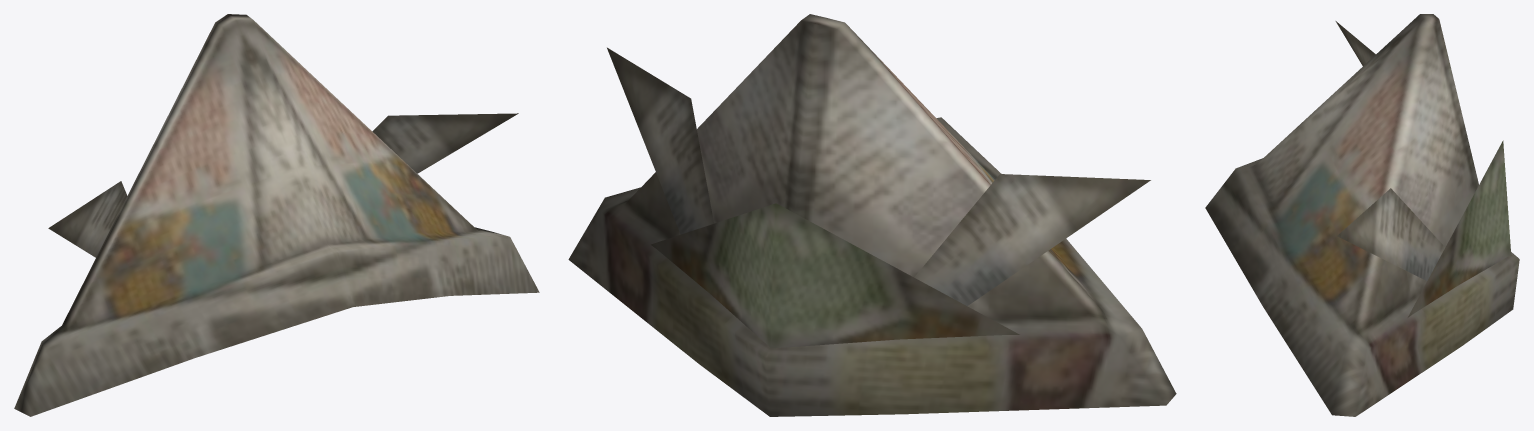
The model's file is paperHat.glb.
3 renders of one model, left to right at view 1: azimuth 30°, elevation 25°; view 2: azimuth 150°, elevation 25°; view 3: azimuth 270°, elevation 25°, orthographic. The views are drawn at different scales.
Visible parts, largest first — view 1: paperHat; view 2: paperHat; view 3: paperHat.
Part boxes in pixels (box(x1,y1,x2,y2)): paperHat: box(14, 14, 539, 416); paperHat: box(568, 14, 1176, 416); paperHat: box(1205, 14, 1519, 416).
Bounding box in the file's own units: 0.5471 × 0.3138 × 0.308.
1 material, 1 textured.
